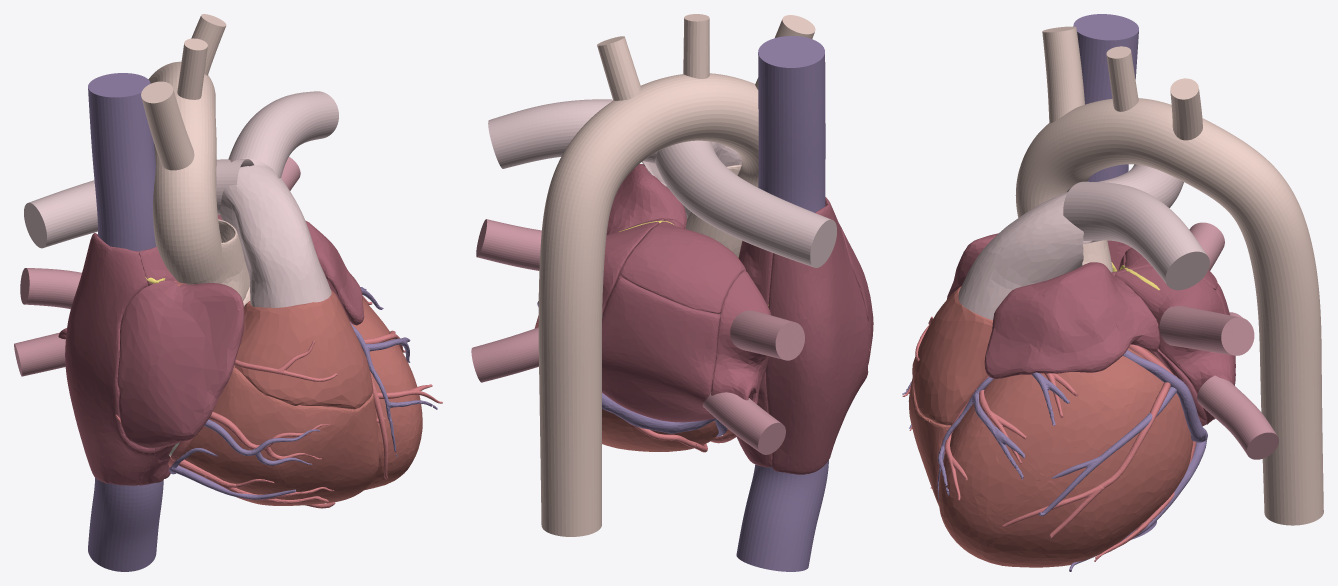
Rendered from coracao.glb.
The picture shows the model from 3 angles, left to right: view 1: azimuth 30°, elevation 25°; view 2: azimuth 150°, elevation 25°; view 3: azimuth 270°, elevation 25°; orthographic projection. The views are drawn at different scales.
Visible parts, largest first — view 1: Aurícula direita, Parede do ventrículo direito (via de entrada), Parede lateral do átrio direito, Infundíbulo do VD (via de saída), Veia cava superior, Arco aórtico e aorta descendente, Tronco pulmonar, Veia cava inferior, Artéria pulmonar esquerda, Parede livre do ventrículo esquerdo, Artéria pulmonar direita, Tronco braquiocefálico (+13 smaller); view 2: Arco aórtico e aorta descendente, Parede lateral do átrio direito, Parede posterior do átrio esquerdo, Veia cava superior, Artéria pulmonar direita, Veia cava inferior, Parede superior do átrio esquerdo, Artéria pulmonar esquerda, Septo interatrial (face do AE), Aurícula esquerda, Veia pulmonar inferior direita, Veia pulmonar superior direita (+12 smaller); view 3: Arco aórtico e aorta descendente, Parede livre do ventrículo esquerdo, Aurícula esquerda, Artéria pulmonar esquerda, Tronco pulmonar, Infundíbulo do VD (via de saída), Parede lateral do átrio esquerdo, Veia cava superior, Veia pulmonar superior esquerda, Veia pulmonar inferior esquerda, Veia cardíaca magna, Tronco braquiocefálico (+17 smaller).
Boxes of the visible parts, bbox=[...] form: Aurícula direita: bbox=[117, 280, 244, 448]; Parede do ventrículo direito (via de entrada): bbox=[183, 367, 378, 505]; Parede lateral do átrio direito: bbox=[65, 233, 154, 485]; Infundíbulo do VD (via de saída): bbox=[234, 289, 372, 409]; Veia cava superior: bbox=[88, 73, 156, 251]; Arco aórtico e aorta descendente: bbox=[148, 61, 223, 283]; Tronco pulmonar: bbox=[219, 165, 331, 307]; Veia cava inferior: bbox=[88, 478, 163, 571]; Artéria pulmonar esquerda: bbox=[228, 91, 338, 178]; Parede livre do ventrículo esquerdo: bbox=[350, 299, 422, 490]; Artéria pulmonar direita: bbox=[24, 159, 253, 248]; Tronco braquiocefálico: bbox=[141, 81, 194, 170]; Arco aórtico e aorta descendente: bbox=[538, 73, 758, 536]; Parede lateral do átrio direito: bbox=[765, 197, 869, 474]; Parede posterior do átrio esquerdo: bbox=[602, 277, 720, 422]; Veia cava superior: bbox=[758, 36, 825, 212]; Artéria pulmonar direita: bbox=[655, 140, 836, 267]; Veia cava inferior: bbox=[736, 460, 828, 571]; Parede superior do átrio esquerdo: bbox=[620, 219, 745, 313]; Artéria pulmonar esquerda: bbox=[488, 99, 657, 168]; Septo interatrial (face do AE): bbox=[711, 271, 771, 404]; Aurícula esquerda: bbox=[606, 164, 686, 234]; Veia pulmonar inferior direita: bbox=[702, 392, 785, 454]; Veia pulmonar superior direita: bbox=[719, 310, 804, 360]; Arco aórtico e aorta descendente: bbox=[1015, 98, 1323, 525]; Parede livre do ventrículo esquerdo: bbox=[938, 347, 1193, 567]; Aurícula esquerda: bbox=[984, 262, 1159, 379]; Artéria pulmonar esquerda: bbox=[1063, 181, 1209, 290]; Tronco pulmonar: bbox=[958, 192, 1083, 319]; Infundíbulo do VD (via de saída): bbox=[912, 286, 992, 425]; Parede lateral do átrio esquerdo: bbox=[1114, 266, 1235, 424]; Veia cava superior: bbox=[1073, 14, 1138, 181]; Veia pulmonar superior esquerda: bbox=[1159, 306, 1254, 355]; Veia pulmonar inferior esquerda: bbox=[1197, 375, 1278, 459]; Veia cardíaca magna: bbox=[937, 350, 1204, 500]; Tronco braquiocefálico: bbox=[1042, 26, 1084, 123].
Bounding box in the file's own units: 0.122 × 0.1842 × 0.1347.
